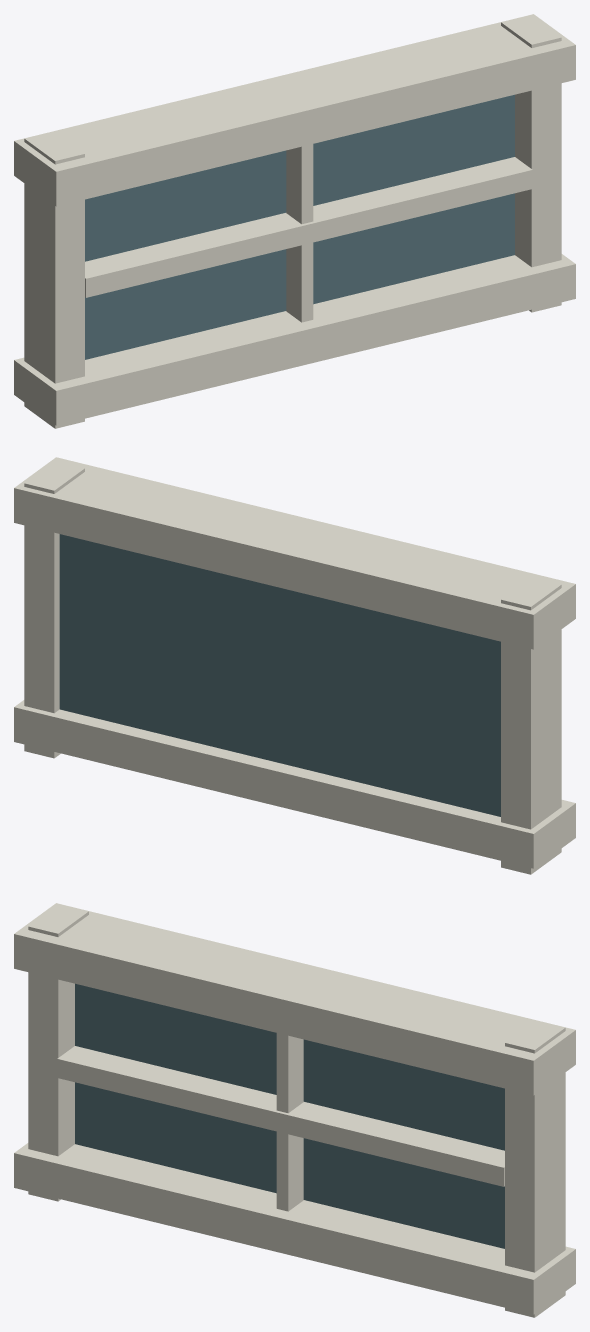
3 renders of one model, top to bottom at view 1: azimuth 30°, elevation 25°; view 2: azimuth 150°, elevation 25°; view 3: azimuth 330°, elevation 25°, orthographic.
Parts seen in each view (by area): view 1: QH-A0039_V02_geometry; view 2: QH-A0039_V02_geometry; view 3: QH-A0039_V02_geometry.
Boxes of the visible parts, x1,y1,x2,y2 form: QH-A0039_V02_geometry: (14,14,575,428); QH-A0039_V02_geometry: (14,457,575,874); QH-A0039_V02_geometry: (14,903,575,1317).
Size of the model in its own units: 1.56 by 0.77 by 0.22.
